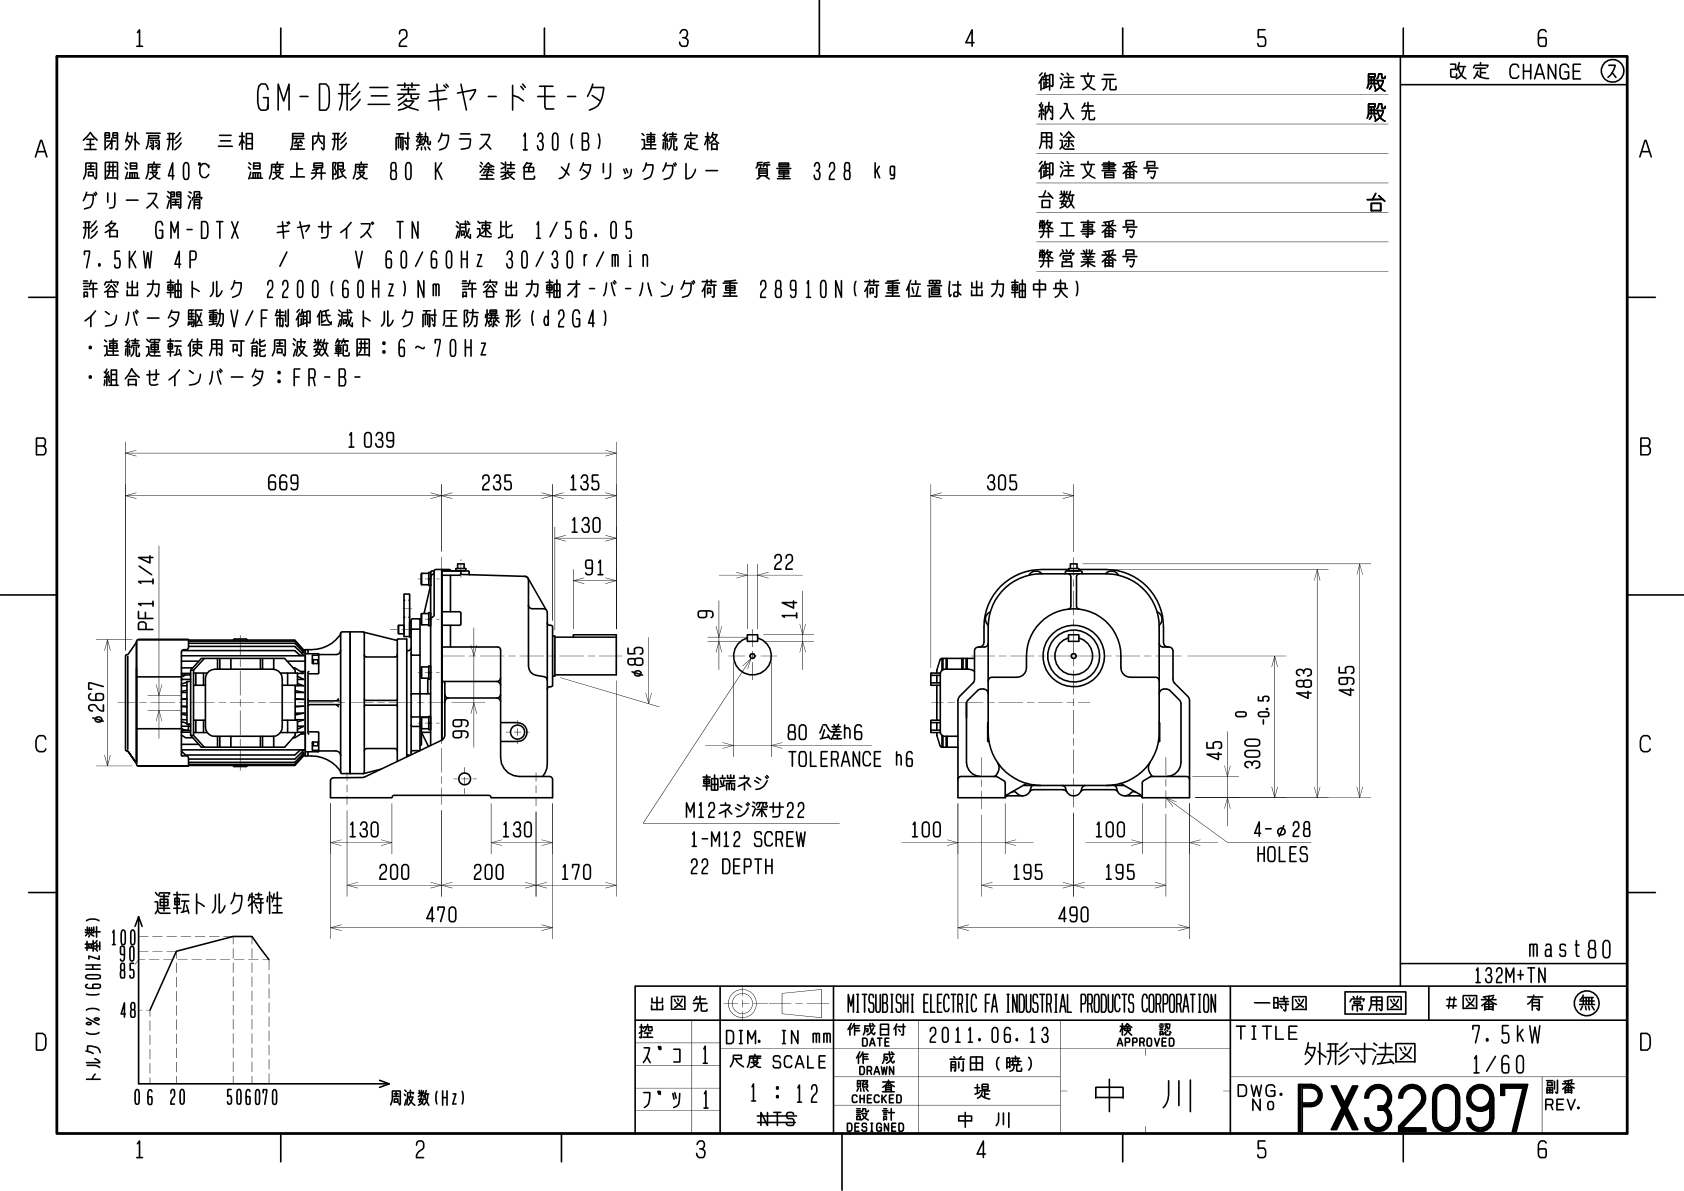GM_D_VF制御屋内_三相_脚: (71, 409, 1385, 965)
